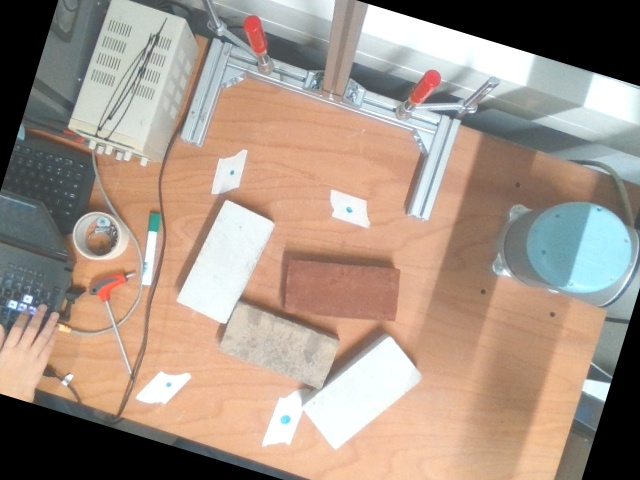brick: (303, 338, 421, 449), (177, 201, 272, 323), (217, 299, 339, 391), (284, 259, 399, 322)
